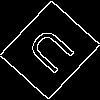U: (24, 25, 84, 83)
